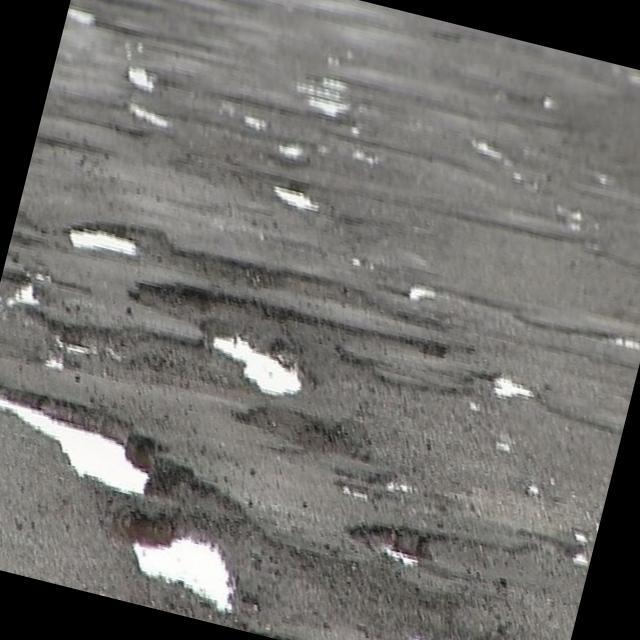Potholes: (110, 241, 472, 436), (342, 500, 590, 636), (0, 368, 189, 512), (100, 499, 260, 628), (237, 380, 386, 479), (49, 194, 182, 293), (121, 90, 185, 142), (267, 168, 324, 220), (116, 62, 166, 104), (63, 0, 110, 35)
